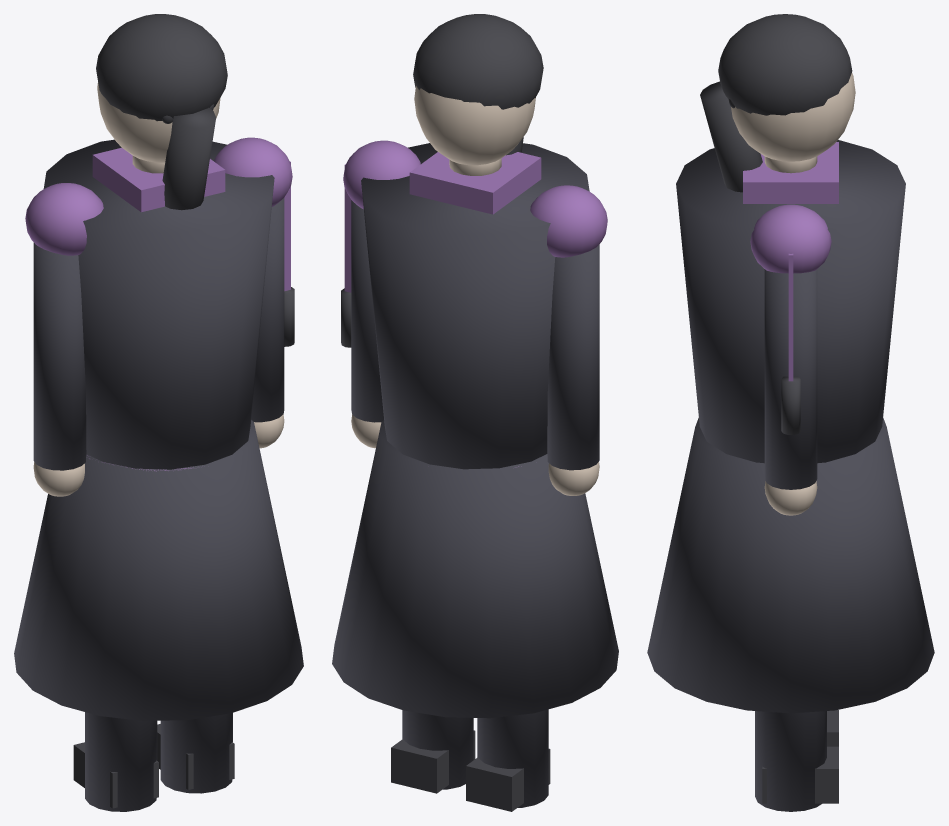
Rendered from tang-wuying.glb.
3 renders of one model, left to right at view 1: azimuth 30°, elevation 25°; view 2: azimuth 150°, elevation 25°; view 3: azimuth 270°, elevation 25°, orthographic.
Parts seen in each view (by area): view 1: tang-wuying_robe, tang-wuying_torso, tang-wuying_arm-0.235, tang-wuying_hair, tang-wuying_leg-0.09, tang-wuying_arm0.235, tang-wuying_leg0.09, tang-wuying_shoulder-0.22, tang-wuying_pigtail, tang-wuying_collar, tang-wuying_shoulder0.22, tang-wuying_head (+6 smaller); view 2: tang-wuying_robe, tang-wuying_torso, tang-wuying_arm-0.235, tang-wuying_hair, tang-wuying_head, tang-wuying_collar, tang-wuying_arm0.235, tang-wuying_leg-0.09, tang-wuying_shoulder-0.22, tang-wuying_leg0.09, tang-wuying_shoulder0.22, tang-wuying_boot-0.09 (+6 smaller); view 3: tang-wuying_robe, tang-wuying_torso, tang-wuying_hair, tang-wuying_arm0.235, tang-wuying_leg0.09, tang-wuying_head, tang-wuying_shoulder0.22, tang-wuying_collar, tang-wuying_pigtail, tang-wuying_boot0.09, tang-wuying_hand0.235, tang-wuying_grip (+2 smaller).
Boxes of the visible parts, x1,y1,x2,y2 form: tang-wuying_robe: (14,420,303,720); tang-wuying_torso: (43,139,274,469); tang-wuying_arm-0.235: (33,242,86,470); tang-wuying_hair: (96,14,227,121); tang-wuying_leg-0.09: (85,712,157,811); tang-wuying_arm0.235: (251,198,284,422); tang-wuying_leg0.09: (160,713,232,793); tang-wuying_shoulder-0.22: (25,183,103,255); tang-wuying_pigtail: (162,107,215,210); tang-wuying_collar: (92,147,225,212); tang-wuying_shoulder0.22: (214,137,292,206); tang-wuying_head: (97,82,220,162); tang-wuying_robe: (332,420,618,718); tang-wuying_torso: (361,143,589,469); tang-wuying_arm-0.235: (547,244,599,470); tang-wuying_hair: (413,14,543,109); tang-wuying_head: (414,86,535,165); tang-wuying_collar: (409,152,541,214); tang-wuying_arm0.235: (351,200,383,422); tang-wuying_leg-0.09: (477,709,548,807); tang-wuying_shoulder-0.22: (530,185,607,257); tang-wuying_leg0.09: (402,710,473,789); tang-wuying_shoulder0.22: (343,140,420,209); tang-wuying_boot-0.09: (466,748,550,811); tang-wuying_robe: (647,417,934,713); tang-wuying_torso: (676,140,905,463); tang-wuying_hair: (718,14,852,115); tang-wuying_arm0.235: (764,269,817,489); tang-wuying_leg0.09: (755,711,826,811); tang-wuying_head: (731,73,855,161); tang-wuying_shoulder0.22: (750,204,831,273); tang-wuying_collar: (743,142,838,203); tang-wuying_pigtail: (700,81,762,192); tang-wuying_boot0.09: (762,746,838,803); tang-wuying_hand0.235: (764,481,817,515); tang-wuying_grip: (781,376,800,434).
Size of the model in its own units: 0.624 by 1.74 by 0.6.
